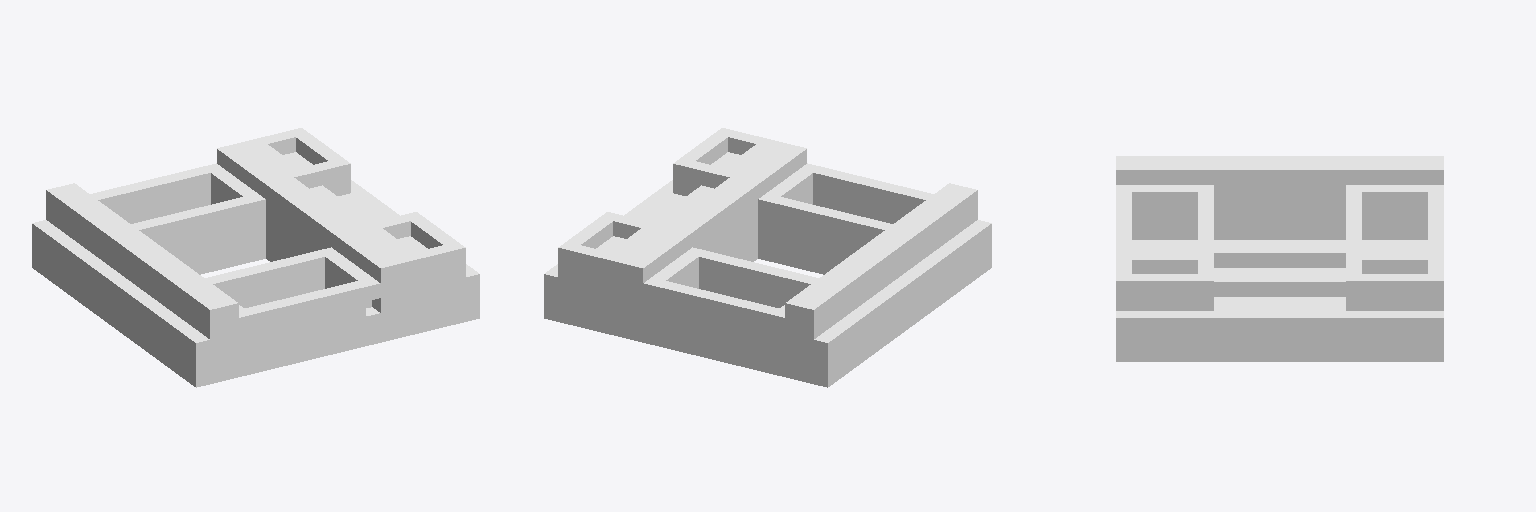
File: Frontmonorail.obj
3 views of the same model, side by side, from view 1: azimuth 30°, elevation 25°; view 2: azimuth 150°, elevation 25°; view 3: azimuth 270°, elevation 25° (orthographic).
Parts seen in each view (by area): view 1: object 1; view 2: object 1; view 3: object 1.
Part boxes in pixels (left/top/right/bottom): object 1: left=32, top=128, right=479, bottom=387; object 1: left=544, top=128, right=991, bottom=387; object 1: left=1116, top=156, right=1443, bottom=361.
Bounding box in the file's own units: 2 × 0.5 × 2.